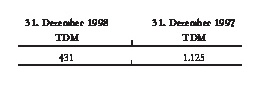table: (0, 0, 258, 88)
